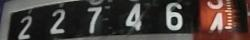digits: (204, 11, 225, 38), (164, 2, 183, 30), (125, 2, 141, 30), (49, 8, 65, 34), (87, 6, 102, 33), (18, 15, 32, 39)
